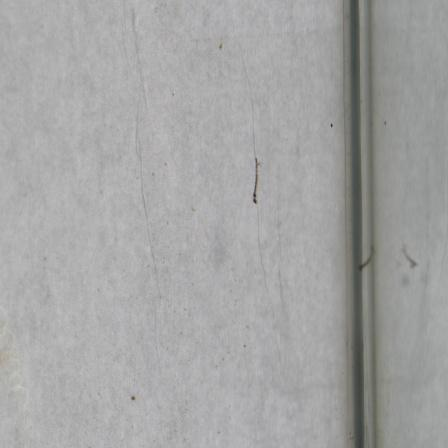Jentik-Nyamuk: (246, 154, 267, 210)
